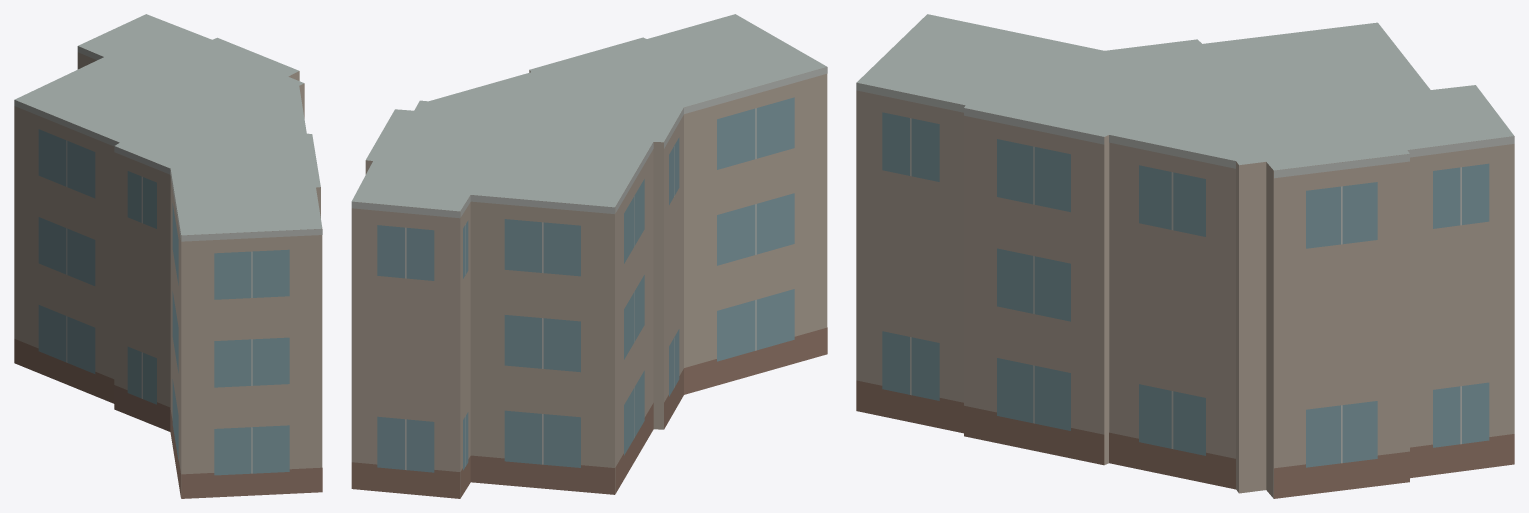
The model's file is survey-upis-32508835.glb.
3 renders of one model, left to right at view 1: azimuth 30°, elevation 25°; view 2: azimuth 150°, elevation 25°; view 3: azimuth 270°, elevation 25°, orthographic. The views are drawn at different scales.
Visible parts, largest first — view 1: survey-upis-32508835.tmp; view 2: survey-upis-32508835.tmp; view 3: survey-upis-32508835.tmp.
Boxes of the visible parts, x1,y1,x2,y2 form: survey-upis-32508835.tmp: (14, 14, 322, 498); survey-upis-32508835.tmp: (351, 14, 827, 498); survey-upis-32508835.tmp: (856, 14, 1514, 498).
Size of the model in its own units: 10.54 by 10.3 by 18.72.
